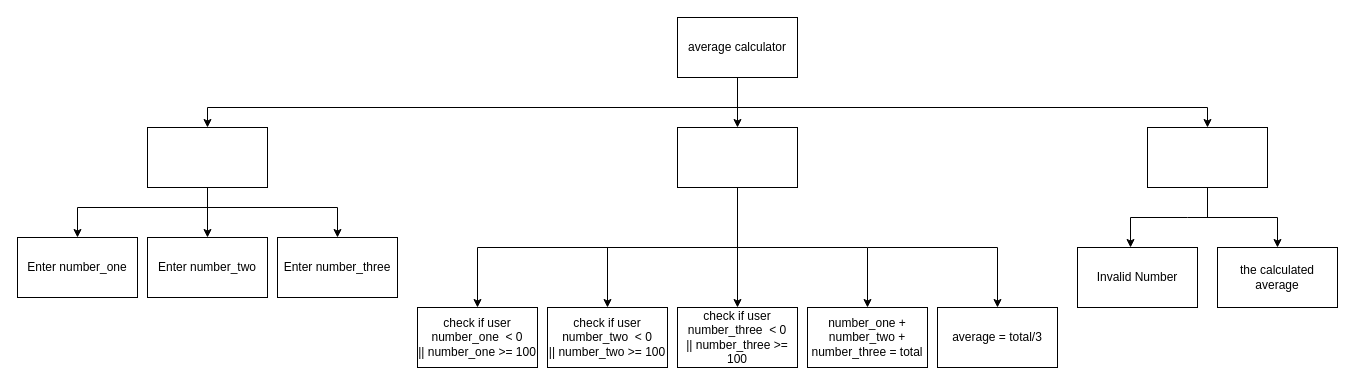
The diagram is 1355 pixels wide and 385 high, and some of its shapes have lost their labels. Here are the shapes that lost their labels. From the top down, the centre of each, then its label:
(x=207, y=157): Input
(x=737, y=157): Process
(x=1207, y=157): Output
